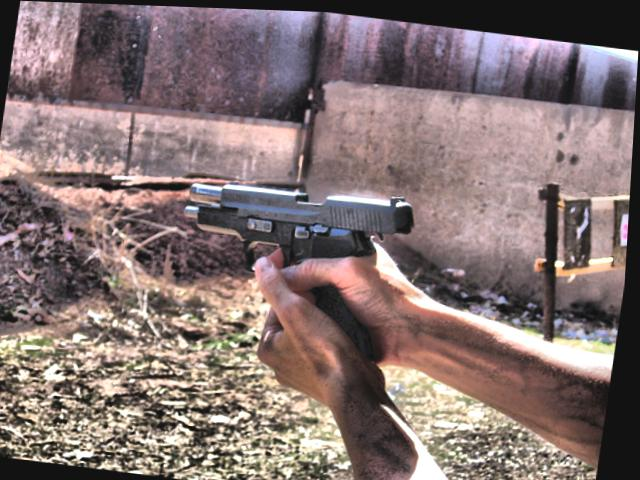pistol: (164, 168, 417, 361)
